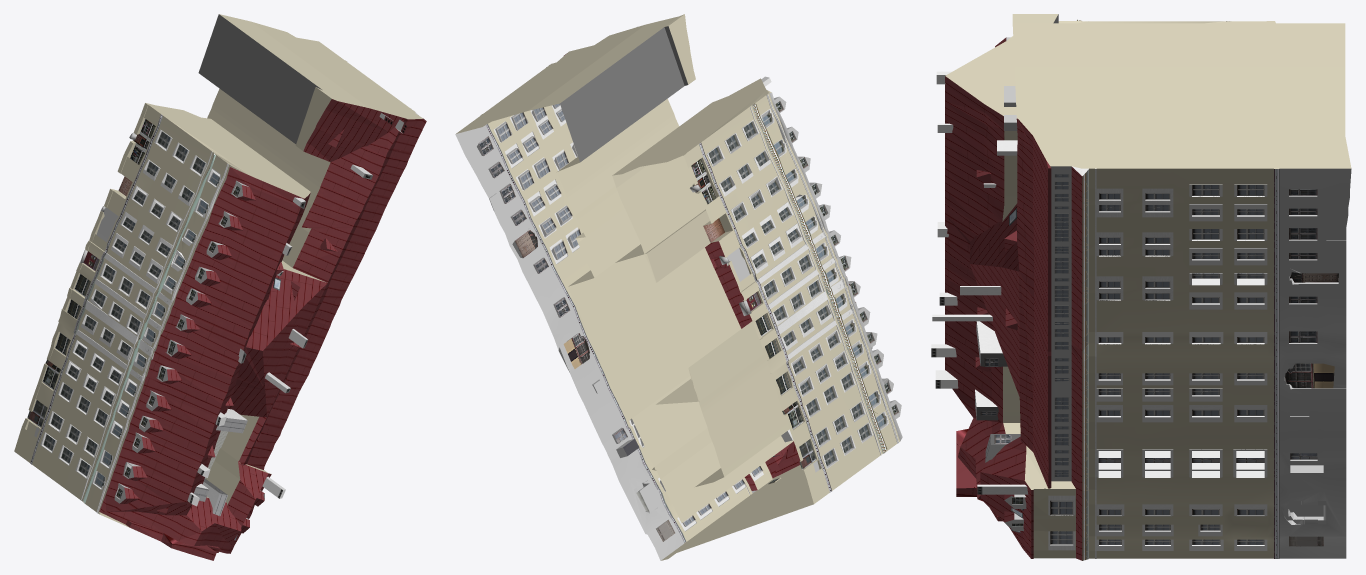
File: Pikk_36-origo.obj
3 renders of one model, left to right at view 1: azimuth 30°, elevation 25°; view 2: azimuth 150°, elevation 25°; view 3: azimuth 270°, elevation 25°, orthographic. The views are drawn at different scales.
Visible parts, largest first — view 1: Pikk_36; view 2: Pikk_36; view 3: Pikk_36.
Boxes of the visible parts, x1,y1,x2,y2 form: Pikk_36: (14,14,426,560); Pikk_36: (455,14,902,560); Pikk_36: (931,14,1351,560).
Bounding box in the file's own units: 45.69 × 56.5 × 35.29.
